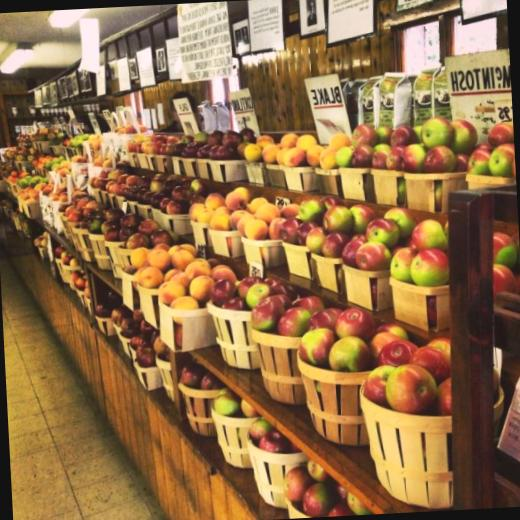Apple: (0, 134, 501, 441), (1, 120, 520, 352), (13, 102, 517, 236), (95, 288, 170, 368), (284, 458, 366, 518), (374, 364, 444, 419), (51, 244, 90, 302), (212, 388, 240, 416), (250, 417, 274, 442), (262, 433, 288, 456), (181, 364, 202, 388), (202, 372, 222, 391), (242, 397, 260, 417), (286, 444, 304, 452), (32, 238, 40, 246), (42, 238, 48, 248), (38, 232, 46, 239)
